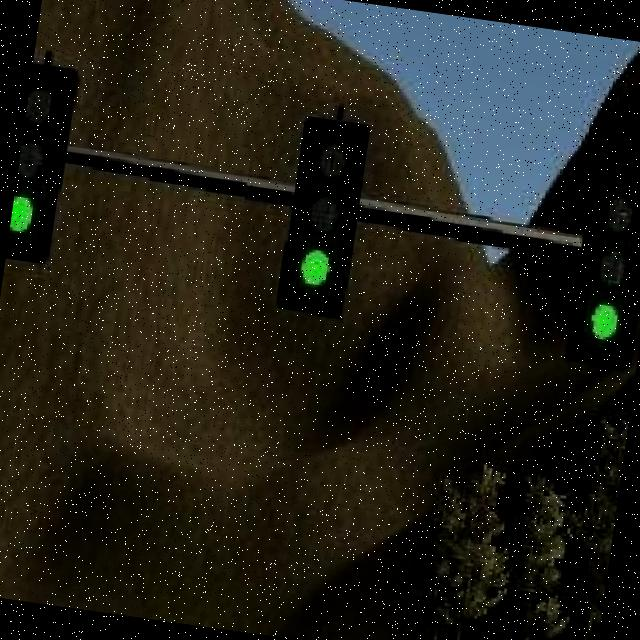Zielone swiatlo: (272, 118, 366, 321), (8, 64, 78, 265), (571, 169, 640, 372)
